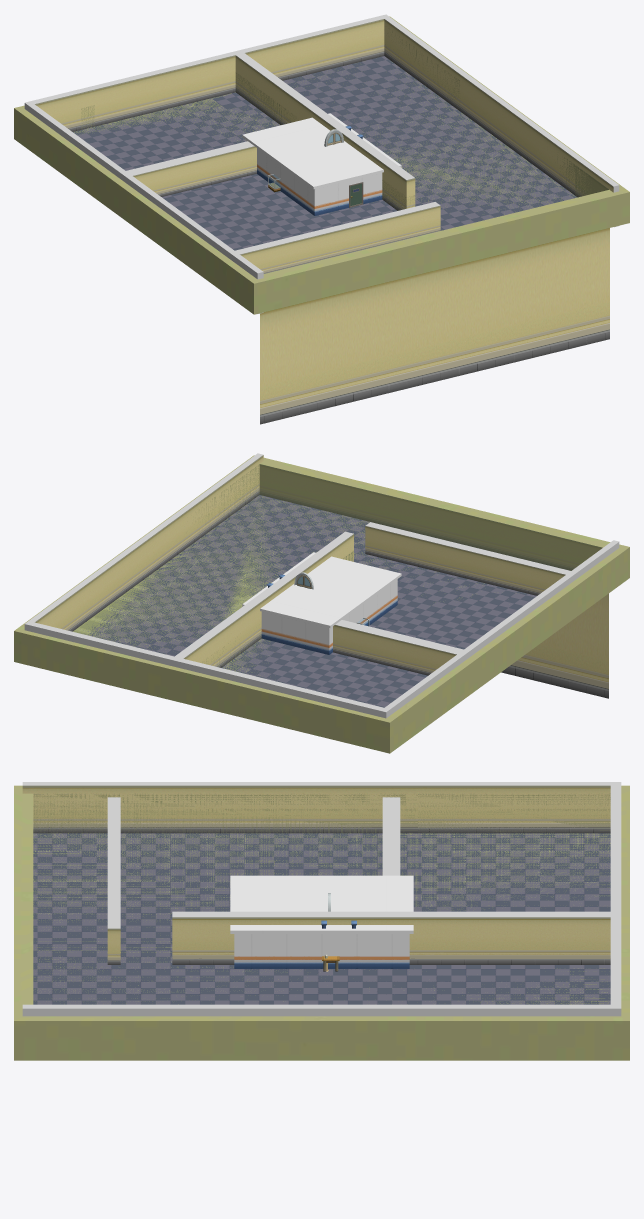
3 renders of one model, top to bottom at view 1: azimuth 30°, elevation 25°; view 2: azimuth 150°, elevation 25°; view 3: azimuth 270°, elevation 25°, orthographic. The views are drawn at different scales.
Parts seen in each view (by area): view 1: Wall (×3), Floor1 (×2), Floor, polySurface12, Wall1 (×2), polySurface22, polySurface9, polySurface3; view 2: Floor, Floor1 (×2), polySurface12, Wall (×3), Wall1 (×2), polySurface3, polySurface22, polySurface9; view 3: Floor, Wall (×2), polySurface12, Wall1 (×2), Floor1 (×2), polySurface22, polySurface3, polySurface9.
Boxes of the visible parts, box(x1,y1,x2,y2) form: Wall (×3): box(35, 19, 613, 424); Floor1 (×2): box(74, 62, 577, 250); Floor: box(73, 56, 524, 250); polySurface12: box(14, 16, 629, 314); Wall1 (×2): box(24, 14, 619, 313); polySurface22: box(242, 113, 401, 189); polySurface9: box(246, 140, 382, 215); polySurface3: box(81, 31, 608, 210); Floor: box(83, 495, 536, 707); Floor1 (×2): box(73, 496, 535, 707); polySurface12: box(14, 455, 629, 753); Wall (×3): box(35, 455, 608, 698); Wall1 (×2): box(24, 453, 619, 718); polySurface3: box(195, 464, 602, 667); polySurface22: box(242, 552, 401, 627); polySurface9: box(261, 579, 397, 654); Floor: box(33, 833, 610, 1004); Wall (×2): box(22, 785, 610, 964); polySurface12: box(14, 785, 629, 1060); Wall1 (×2): box(22, 782, 621, 1016); Floor1 (×2): box(33, 833, 610, 1004); polySurface22: box(230, 875, 413, 933); polySurface3: box(33, 793, 610, 833); polySurface9: box(234, 934, 409, 968).
Bounding box in the file's own units: 31.76 × 13.26 × 35.12.
Materials: 39 (36 with a texture image).
